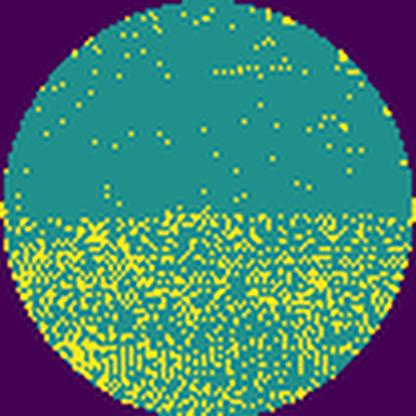Random: (0, 202, 416, 416)
